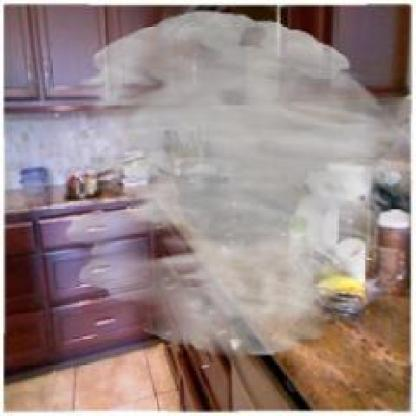Smoke: (64, 10, 414, 357)
